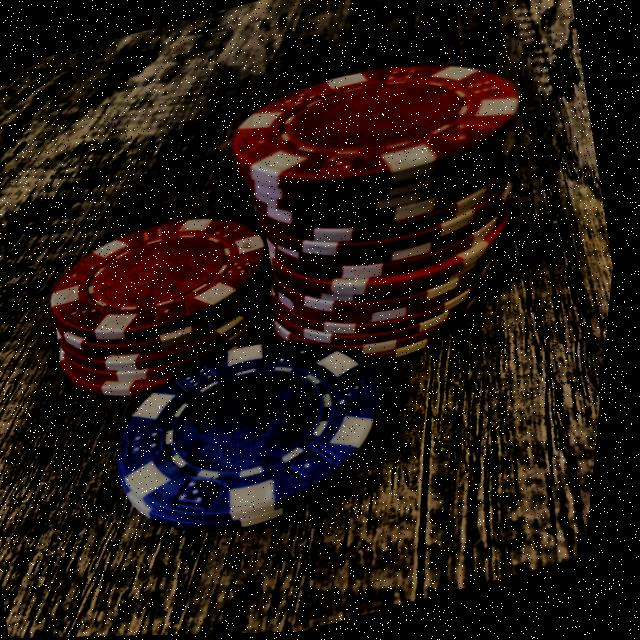Chip: (174, 17, 611, 410), (77, 295, 439, 583), (14, 171, 320, 430)
